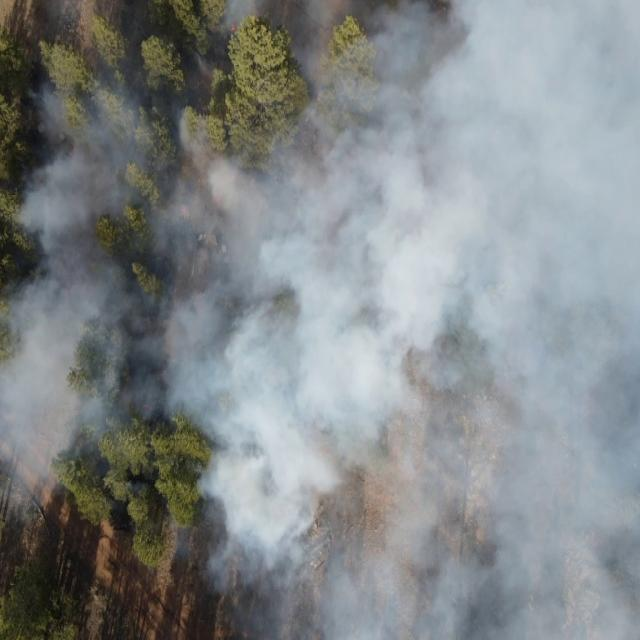smoke: (373, 1, 640, 640), (155, 110, 369, 594), (2, 292, 152, 496), (0, 80, 156, 220), (294, 2, 374, 112), (42, 224, 136, 295), (228, 599, 379, 640), (194, 0, 273, 41)
